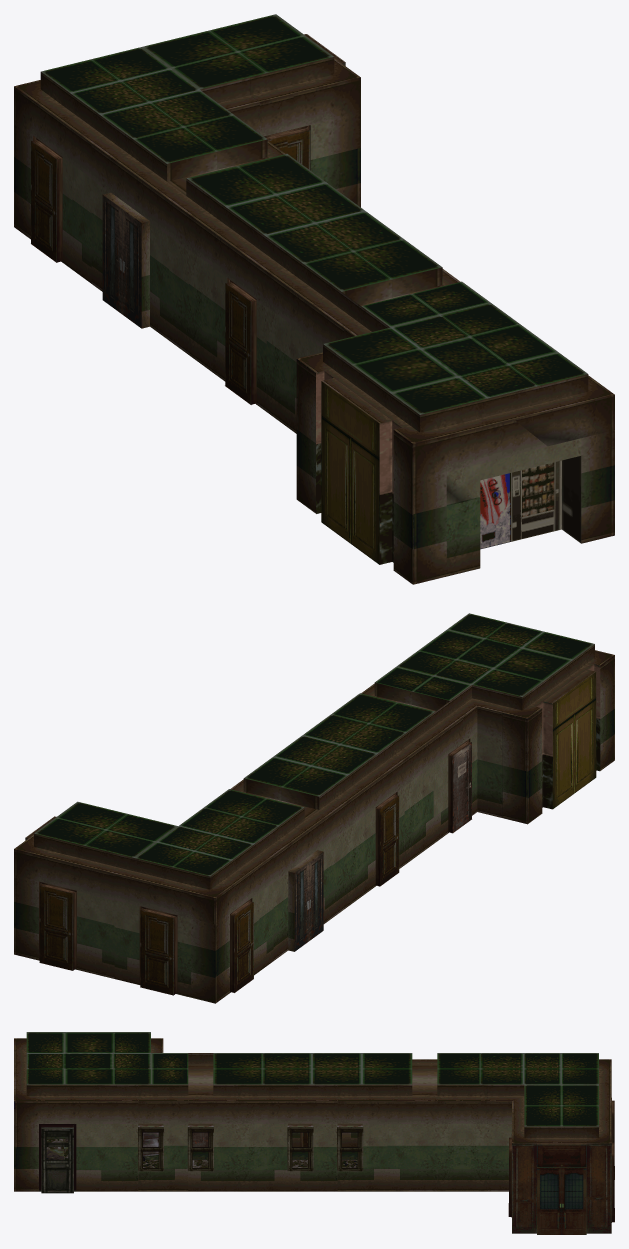
Rendered from silenthillhallway.fbx.
3 views of the same model, one above another, from view 1: azimuth 30°, elevation 25°; view 2: azimuth 150°, elevation 25°; view 3: azimuth 270°, elevation 25° (orthographic). The views are drawn at different scales.
Parts seen in each view (by area): view 1: FrontSide; view 2: FrontSide; view 3: FrontSide.
Boxes of the visible parts, left/top/right/bottom form: FrontSide: left=14, top=14, right=614, bottom=584; FrontSide: left=14, top=613, right=614, bottom=1003; FrontSide: left=14, top=1032, right=614, bottom=1234.
Bounding box in the file's own units: 820 × 361 × 1931.
